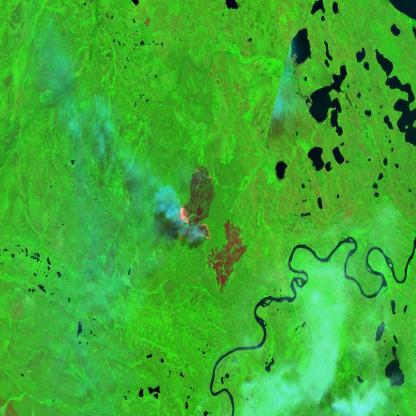fire: (174, 158, 217, 244)
